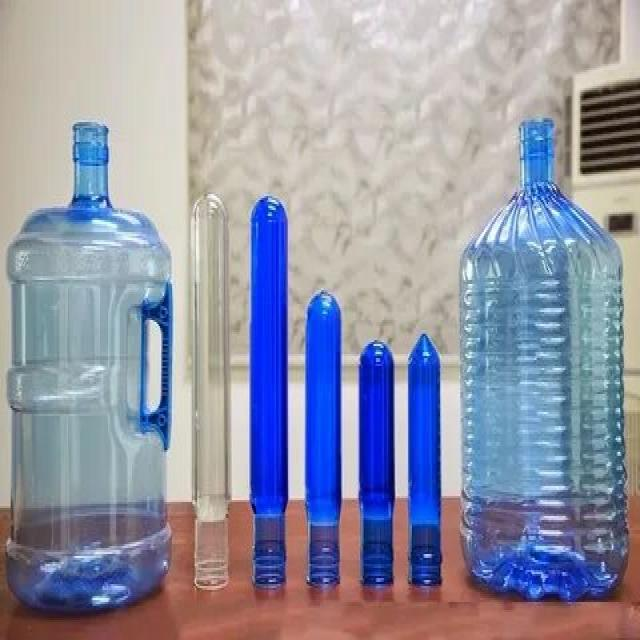blue: (7, 121, 171, 612), (460, 122, 628, 598)
